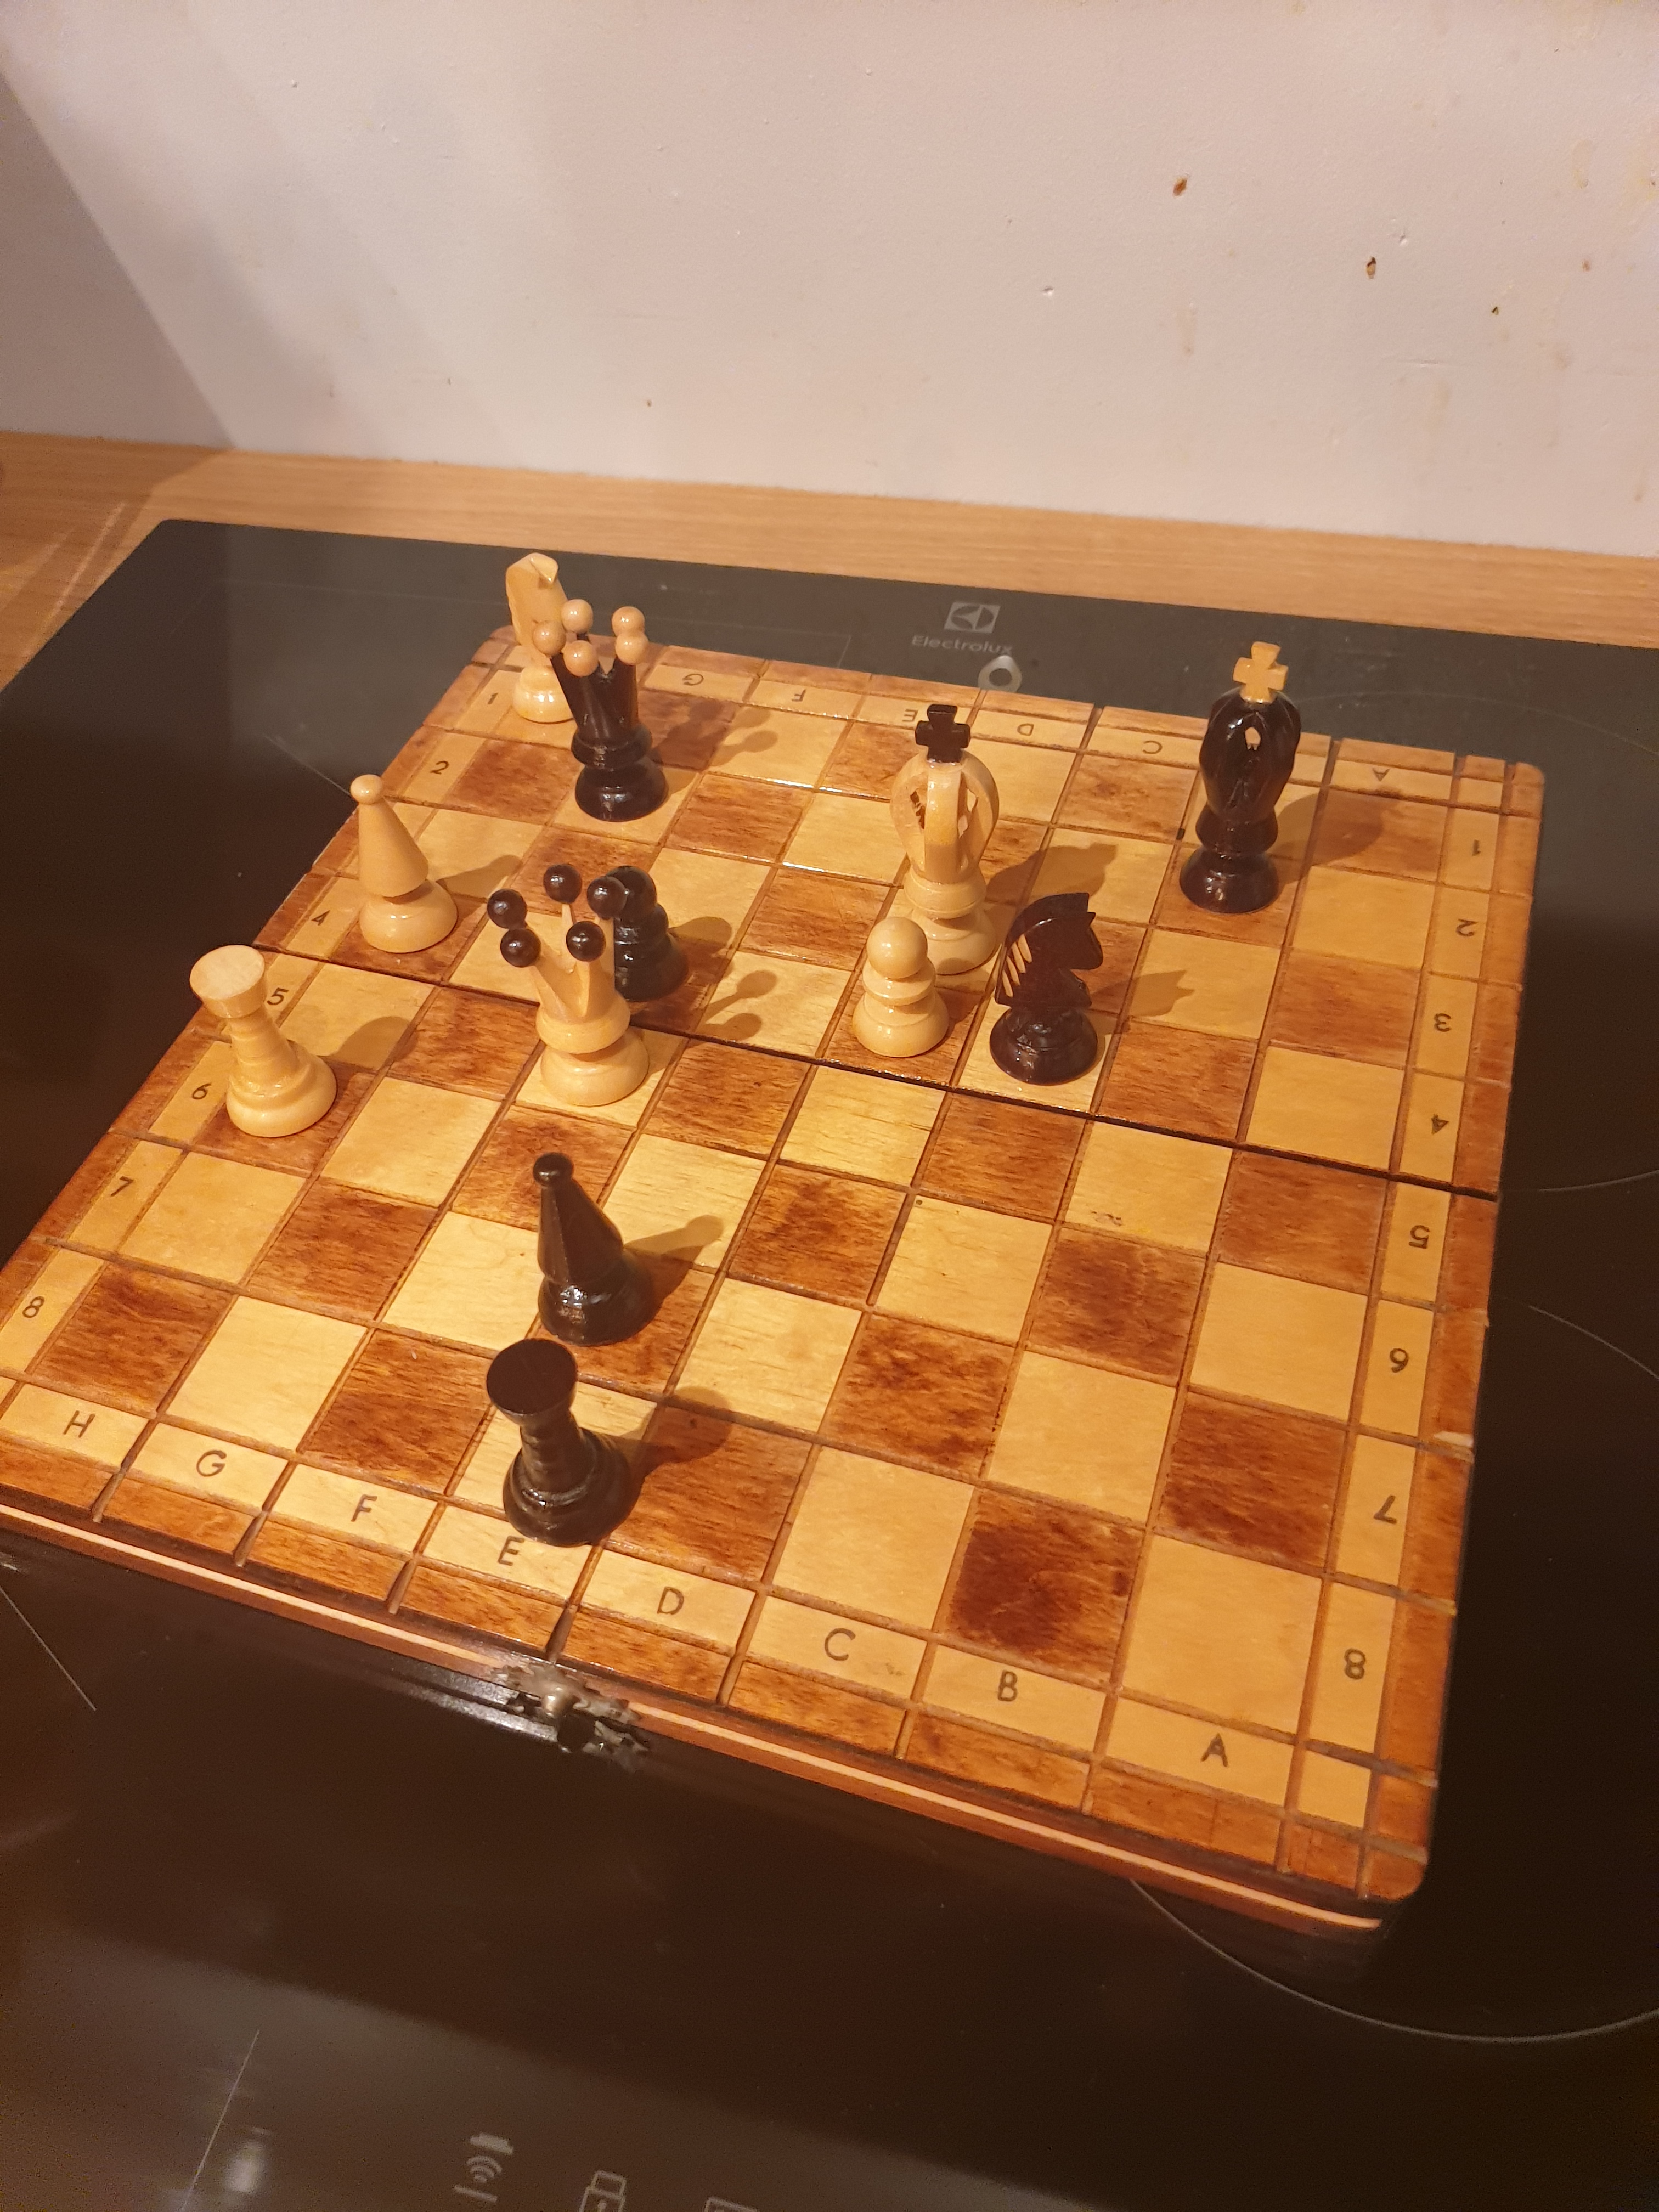bbishop: (523, 1141, 669, 1355)
bking: (1171, 624, 1314, 927)
bknight: (979, 888, 1126, 1094)
bpawn: (582, 838, 702, 1036)
bqueen: (528, 589, 681, 833)
brook: (474, 1336, 645, 1555)
wbishop: (335, 756, 481, 967)
wking: (864, 688, 1021, 995)
wknight: (498, 543, 601, 733)
wpawn: (838, 904, 971, 1076)
wqueen: (479, 857, 666, 1113)
wrook: (176, 921, 347, 1148)
